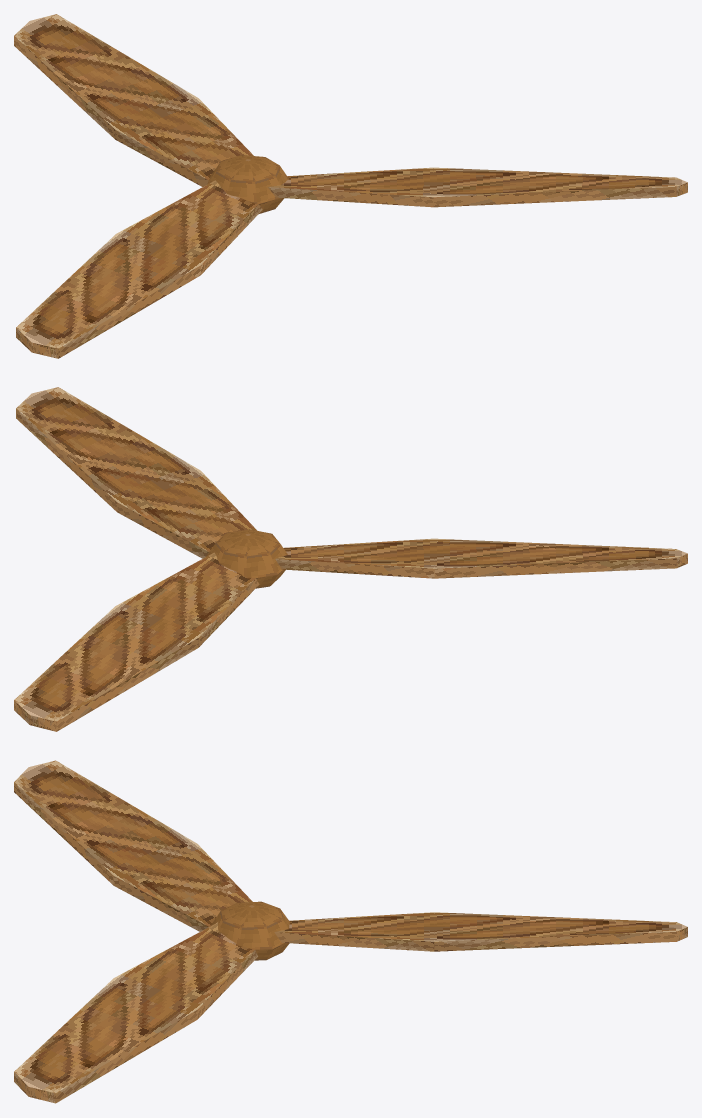
File: fan33.glb
3 renders of one model, top to bottom at view 1: azimuth 30°, elevation 25°; view 2: azimuth 150°, elevation 25°; view 3: azimuth 270°, elevation 25°, orthographic.
Parts seen in each view (by area): view 1: fan33; view 2: fan33; view 3: fan33.
Part boxes in pixels (x1=…): fan33: x1=14, y1=14, x2=687, y2=358; fan33: x1=14, y1=387, x2=687, y2=731; fan33: x1=14, y1=760, x2=687, y2=1103.
Size of the model in its own units: 618 by 38 by 547.
1 material, 1 textured.
